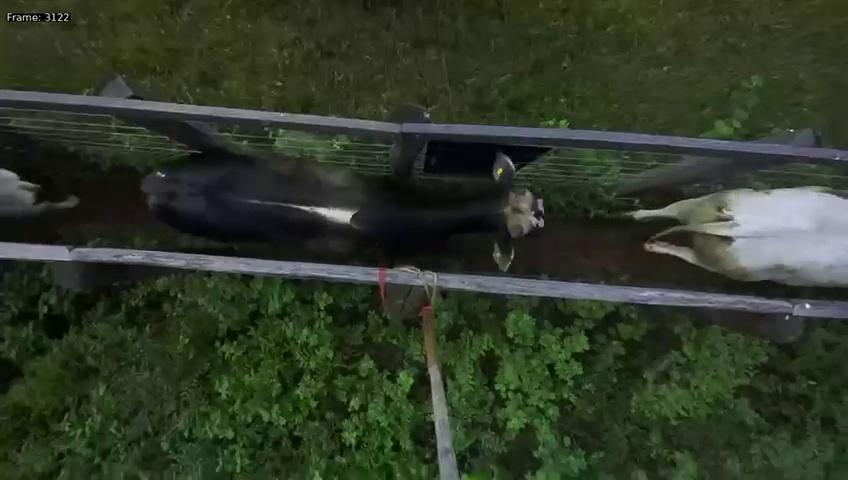cattle: (127, 144, 548, 270)
